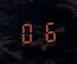six: (38, 20, 56, 43)
zero: (19, 21, 37, 44)
